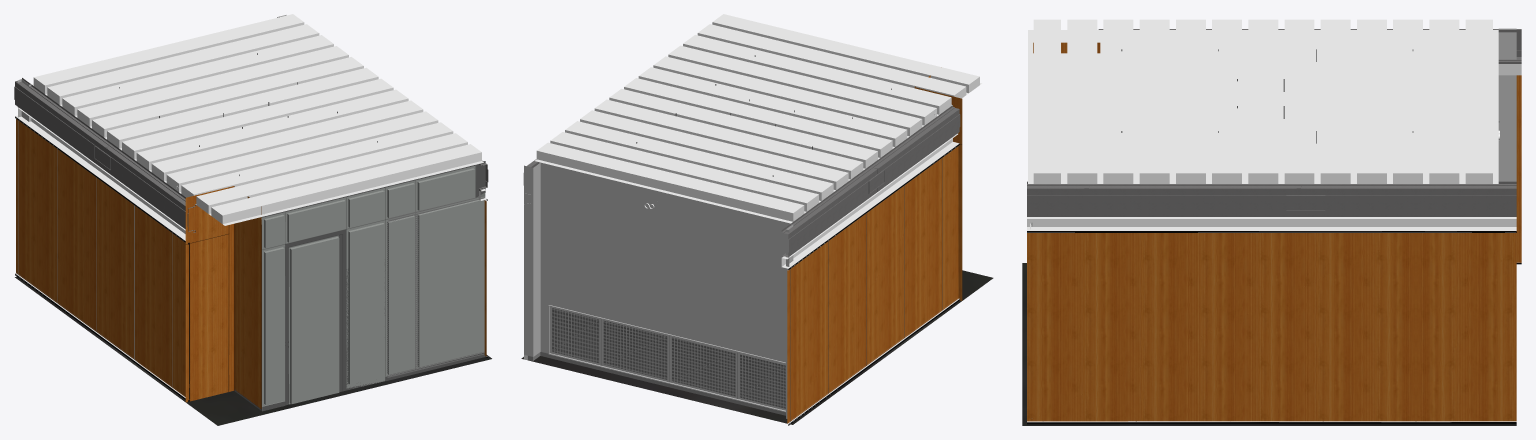
3 views of the same model, side by side, from view 1: azimuth 30°, elevation 25°; view 2: azimuth 150°, elevation 25°; view 3: azimuth 270°, elevation 25° (orthographic). The views are drawn at different scales.
Visible parts, largest first — view 1: Ceiling, Wall_Left, Wall_Front, Floor, Wall_Right; view 2: Ceiling, Wall_Back, Wall_Left, Floor; view 3: Wall_Right, Ceiling, Wall_Back, Wall_Left, Floor.
Part boxes in pixels (bbox=[...]): Ceiling: bbox=[31, 14, 483, 225]; Wall_Left: bbox=[14, 78, 261, 410]; Wall_Front: bbox=[262, 161, 485, 411]; Floor: bbox=[15, 225, 491, 425]; Wall_Right: bbox=[279, 17, 488, 357]; Ceiling: bbox=[535, 14, 981, 223]; Wall_Back: bbox=[524, 162, 793, 418]; Wall_Left: bbox=[781, 75, 962, 425]; Floor: bbox=[521, 270, 993, 424]; Wall_Right: bbox=[1027, 181, 1516, 424]; Ceiling: bbox=[1028, 19, 1498, 183]; Wall_Back: bbox=[1498, 28, 1516, 181]; Wall_Left: bbox=[1033, 29, 1521, 264]; Floor: bbox=[1022, 263, 1516, 425].
Size of the model in its own units: 4.94 by 3.55 by 6.39.
